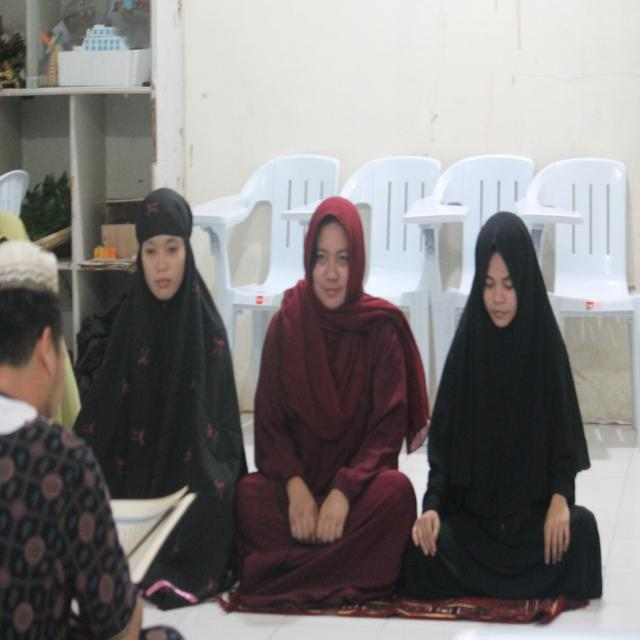4_capucha: (303, 195, 367, 324)
